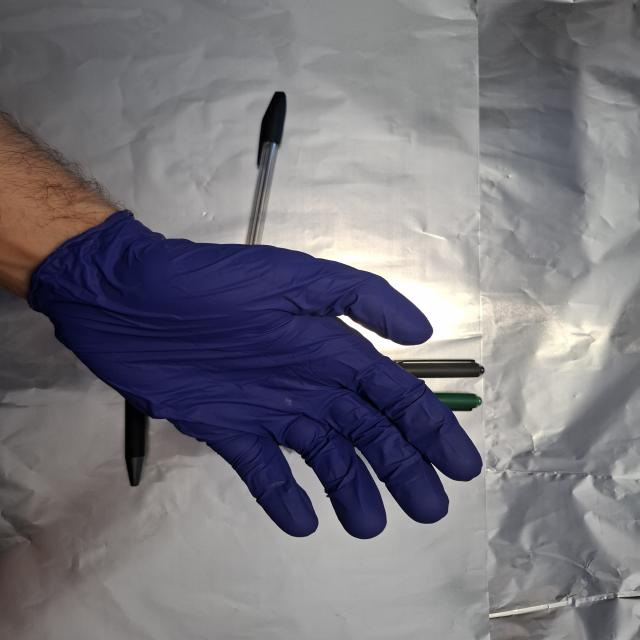glove_on: (34, 204, 486, 542)
